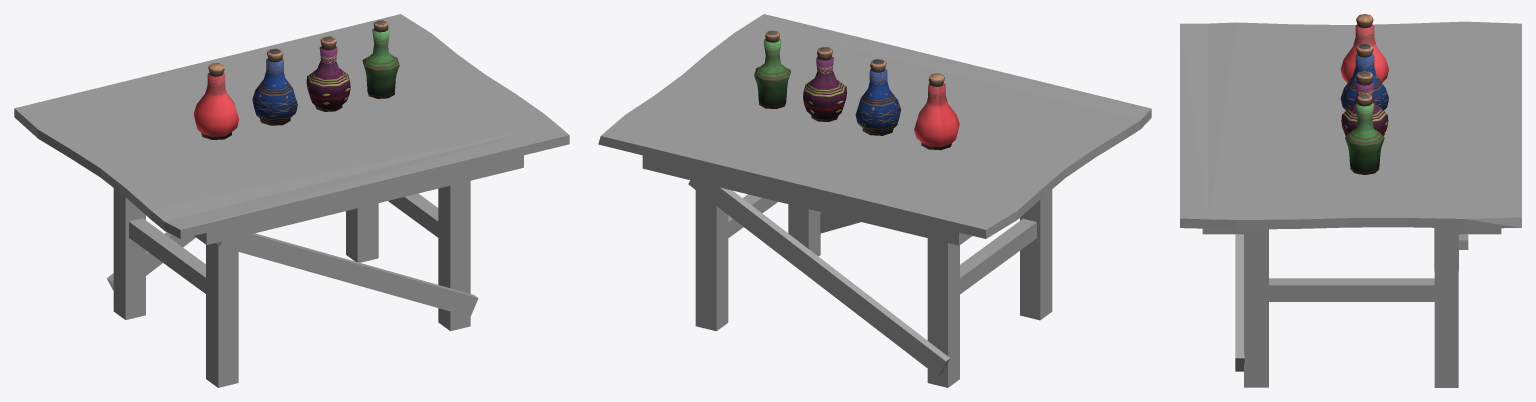
The model's file is vzor.dae.
The picture shows the model from 3 angles, left to right: view 1: azimuth 30°, elevation 25°; view 2: azimuth 150°, elevation 25°; view 3: azimuth 270°, elevation 25°; orthographic projection. The views are drawn at different scales.
Parts seen in each view (by area): view 1: Cube, Cube_010, Cube_008, Cube_002, Cube_007, Cube_005, small_health_poti_red, small_health_poti_blue, Cube_011, small_health_poti_purple, small_health_poti_green, Cube_006 (+2 smaller); view 2: Cube, Cube_009, Cube_001, Cube_006, Cube_005, Cube_008, small_health_poti_blue, Cube_011, small_health_poti_red, small_health_poti_purple, small_health_poti_green, Cube_007 (+2 smaller); view 3: Cube, Cube_006, Cube_012, Cube_007, small_health_poti_green, small_health_poti_red, small_health_poti_blue, Cube_010, small_health_poti_purple, Cube_001.
Boxes of the visible parts, x1,y1,x2,y2 form: Cube: (14, 14, 569, 238); Cube_010: (215, 233, 478, 316); Cube_008: (206, 243, 238, 387); Cube_002: (194, 155, 523, 244); Cube_007: (438, 181, 470, 331); Cube_005: (113, 188, 145, 319); small_health_poti_red: (193, 63, 239, 139); small_health_poti_blue: (252, 48, 297, 125); Cube_011: (129, 218, 205, 293); small_health_poti_purple: (306, 36, 350, 111); small_health_poti_green: (362, 20, 399, 98); Cube_006: (346, 203, 378, 262); Cube: (598, 14, 1151, 238); Cube_009: (688, 180, 950, 375); Cube_001: (642, 155, 971, 245); Cube_006: (695, 190, 728, 331); Cube_005: (927, 238, 959, 387); Cube_008: (1020, 189, 1052, 320); small_health_poti_blue: (855, 59, 900, 135); Cube_011: (960, 218, 1036, 294); small_health_poti_red: (914, 73, 959, 150); small_health_poti_purple: (803, 46, 846, 121); small_health_poti_green: (754, 30, 790, 108); Cube_007: (788, 204, 820, 256); Cube: (1180, 21, 1521, 229); Cube_006: (1434, 228, 1458, 387); Cube_012: (1269, 278, 1434, 301); Cube_007: (1244, 229, 1268, 387); small_health_poti_green: (1345, 94, 1384, 174); small_health_poti_red: (1340, 14, 1388, 82); small_health_poti_blue: (1340, 43, 1388, 110); Cube_010: (1235, 234, 1244, 371); small_health_poti_purple: (1341, 71, 1388, 135); Cube_001: (1459, 228, 1501, 234).
Size of the model in its own units: 2.75 by 2 by 1.78.
5 materials, 4 textured.
